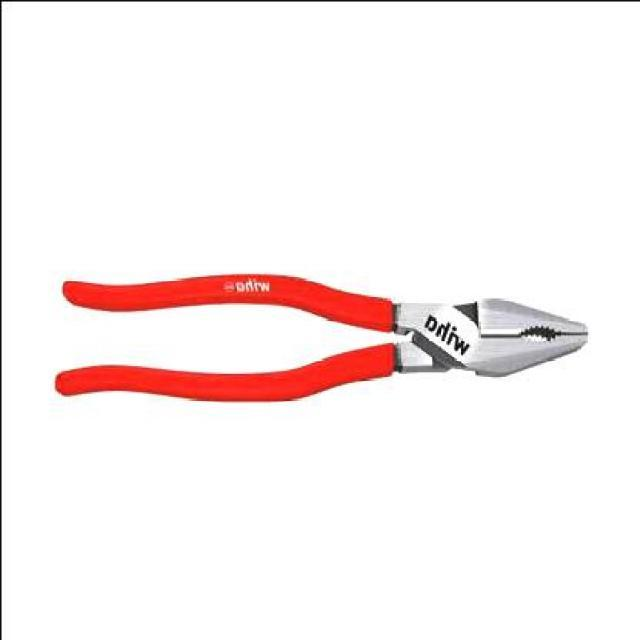pliers: (48, 264, 590, 408)
